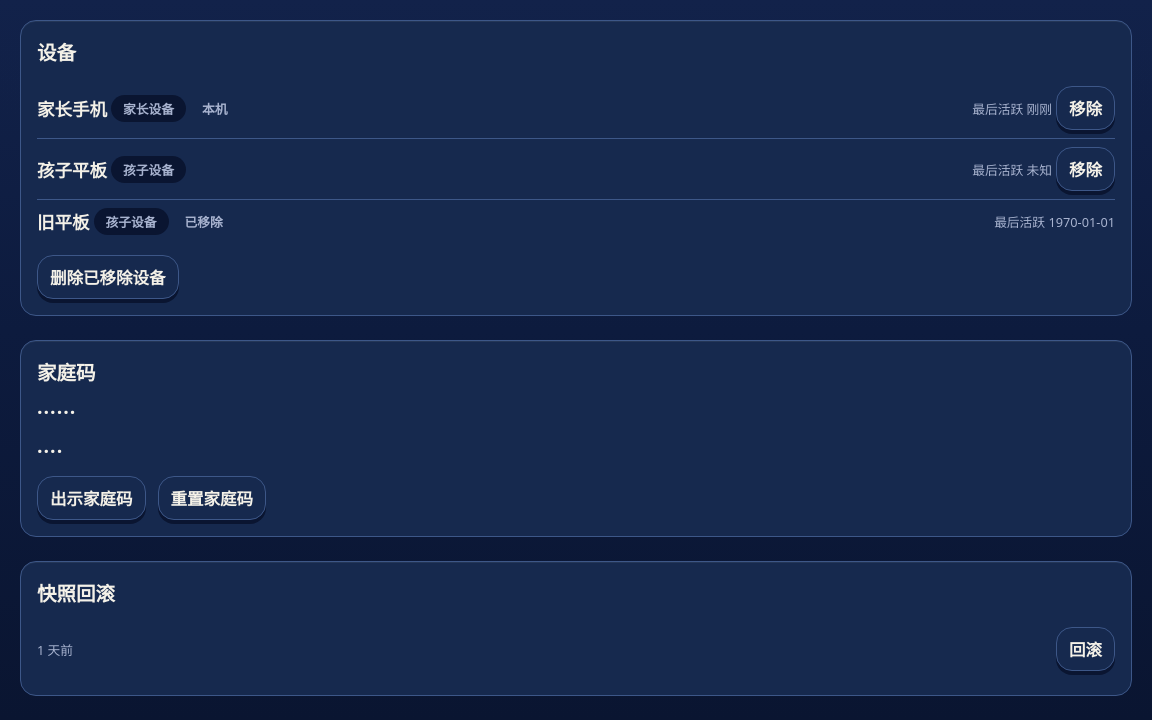
Test case: #127 家庭码 › 重置：确认弹窗明示「只拦住后续加入，已配对设备不受影响」→ 确认后同屏出示新码+新口令（#192 成对轮换）
The image size is (1152, 720).
Click the button with class "btn-code-reset" at {"x": 212, "y": 498}, box [158,476,266,520]
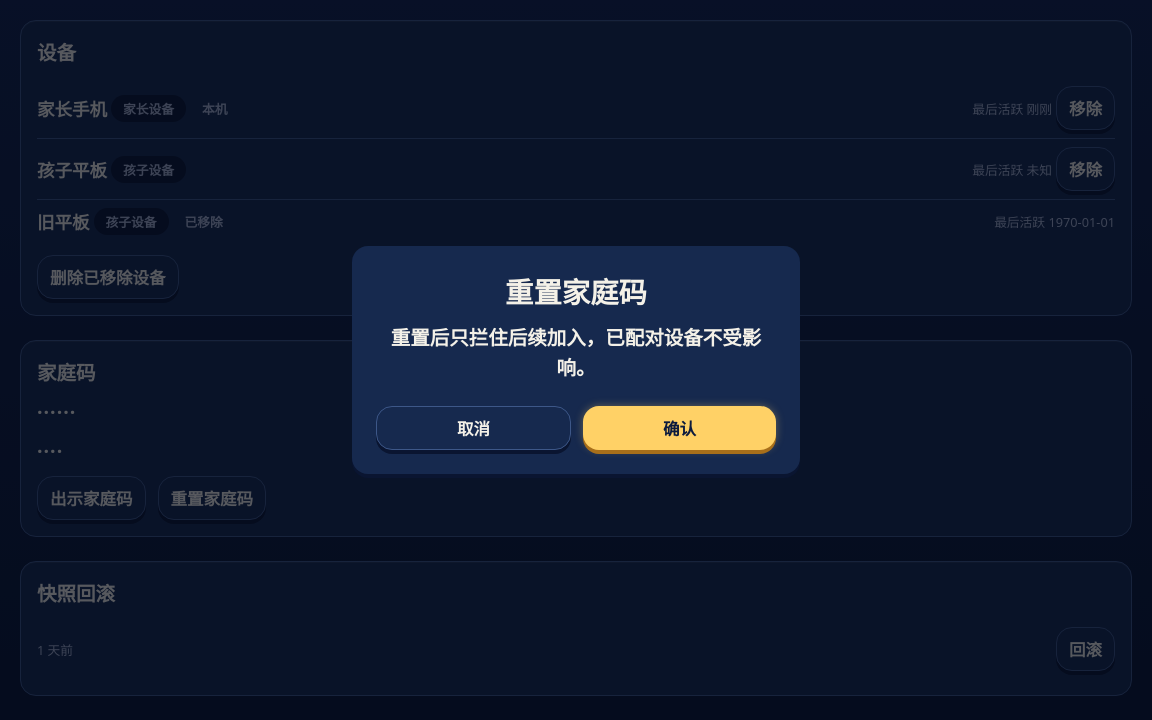
Check: the heading with class "star-modal__title" reads "重置家庭码", box [505,273,647,311]
Check: the dialog with class "admin-confirm-modal" shows "只拦住后续加入", box [391,324,761,381]
Check: the dialog with class "admin-confirm-modal" shows "已配对设备不受影响", box [391,324,761,381]
Click the button "确认" at {"x": 680, "y": 428}, box [583,406,776,450]
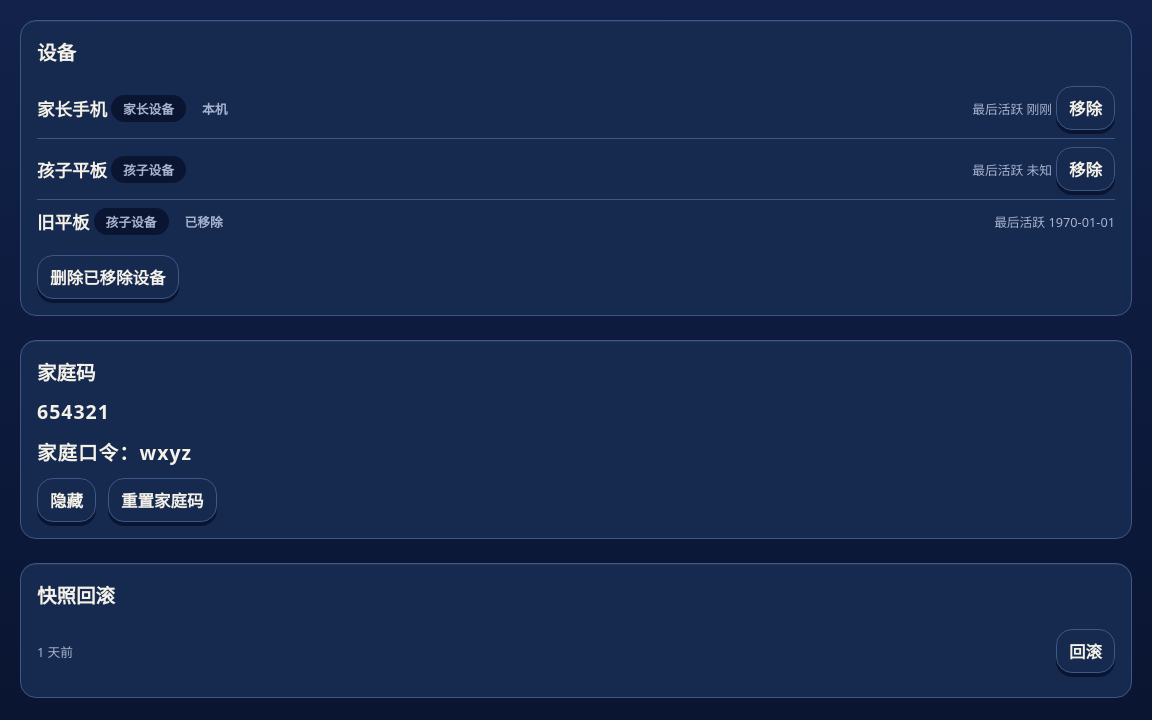
Check: the text with class "family-code-value" reads "654321", box [37,398,110,425]
